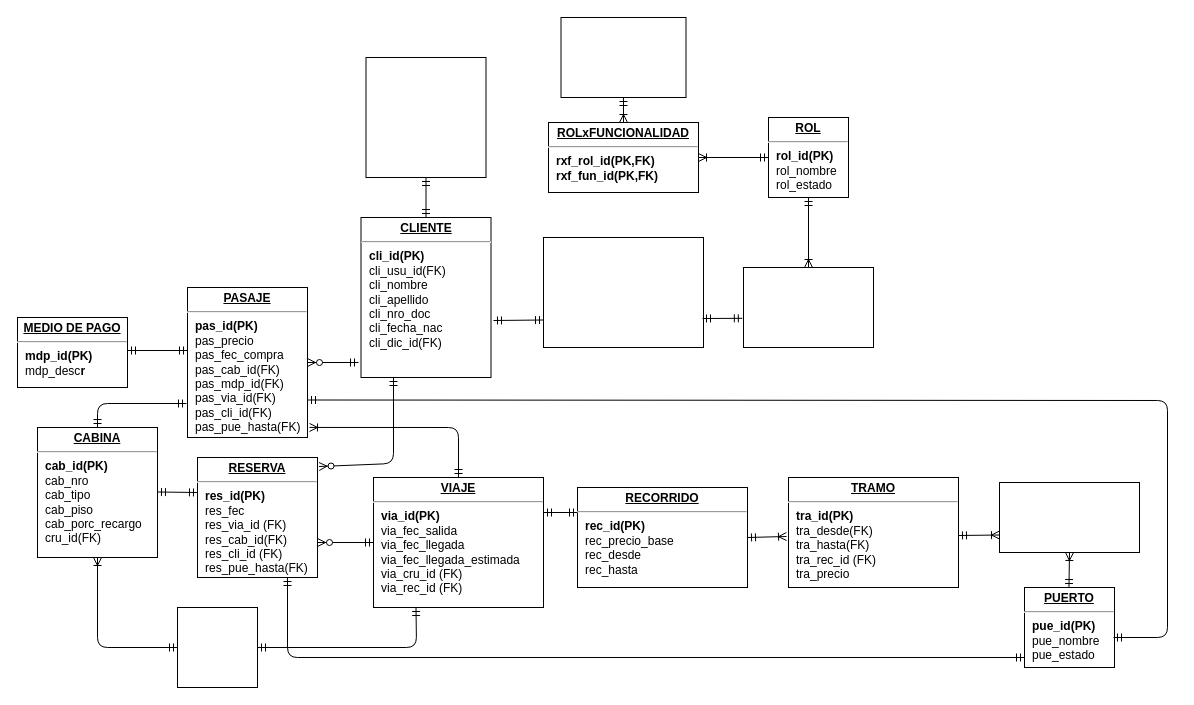
This 1194x705 diagram has some shape labels left out. The box of each missing label's shape, as (x1, y1, x2, y2) in pixels:
CRUCERO cru_id(PK) cru_modelo cru_fabric: (176, 606, 258, 688)
DIRECCIÓN dir_id(PK) dir_calle dir_nro dir_telefono dir_mail: (365, 56, 486, 178)
FUNCIONALIDAD fun_id(PK) fun_nombre fun_visible: (560, 16, 686, 98)
PUERTOxTRAMO txp_tra_id(PK,FK) txp_pue_id(PK,FK): (998, 482, 1140, 552)
ROLxUSUARIO rxu_usu_id(PK,FK) rxu_rol_id(PK,FK) rxu_estado: (742, 266, 874, 348)
USUARIO usu_id(PK) usu_usuario usu_password usu_cant_int_fallidos usu_estado: (542, 236, 704, 348)
